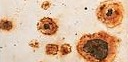Corrosion: (75, 30, 122, 62), (94, 1, 126, 29), (36, 16, 60, 36), (1, 16, 17, 33), (27, 38, 41, 53), (45, 43, 59, 56), (60, 43, 72, 56), (40, 1, 51, 11)
